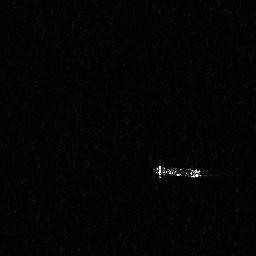ship: (151, 159, 215, 184)
